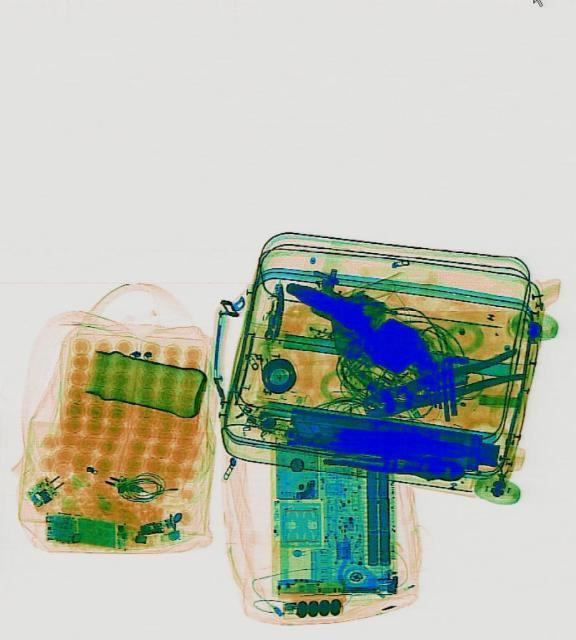Pliers: (355, 346, 524, 426)
